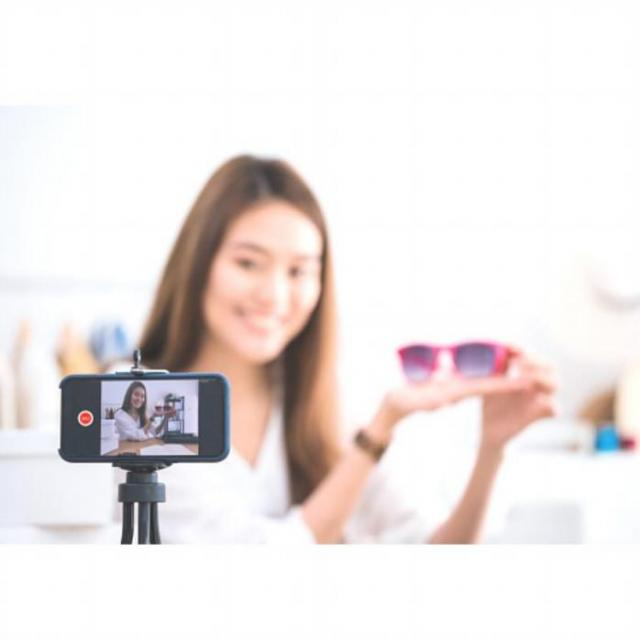device: (55, 367, 232, 463)
